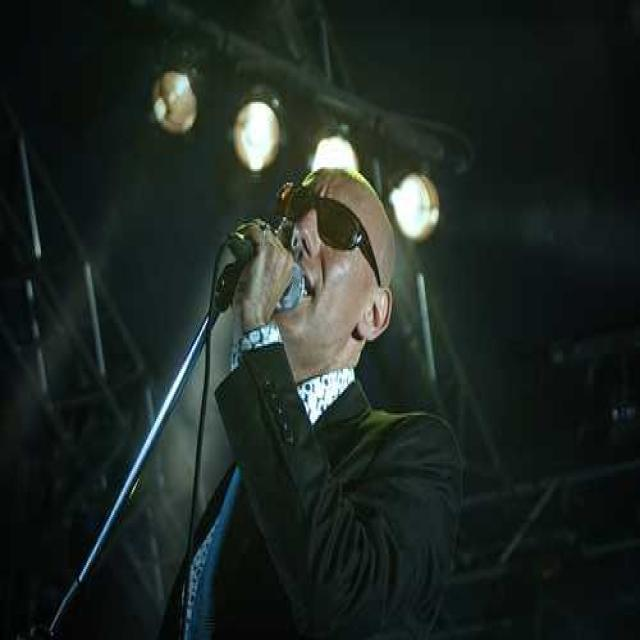microphone: (213, 217, 301, 314), (135, 1, 237, 67)
